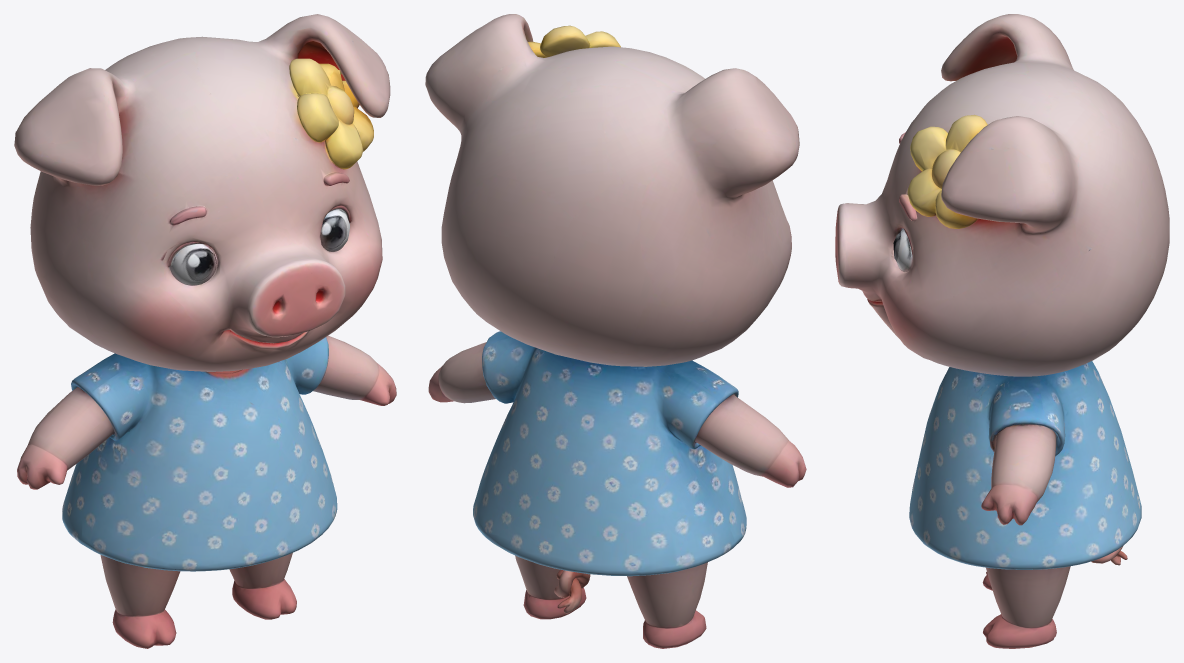
File: npc_be_na.glb
The picture shows the model from 3 angles, left to right: view 1: azimuth 30°, elevation 25°; view 2: azimuth 150°, elevation 25°; view 3: azimuth 270°, elevation 25°; orthographic projection. The views are drawn at different scales.
Visible parts, largest first — view 1: node_0; view 2: node_0; view 3: node_0.
Part boxes in pixels (x1=…): node_0: x1=14, y1=14, x2=396, y2=648; node_0: x1=425, y1=14, x2=806, y2=648; node_0: x1=835, y1=14, x2=1169, y2=648.
Size of the model in its own units: 0.7413 by 1.11 by 0.6133.
Materials: 1 (1 with a texture image).
